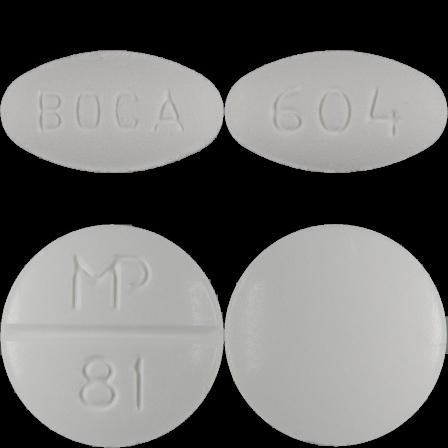60429-251: (0, 0, 224, 224)
